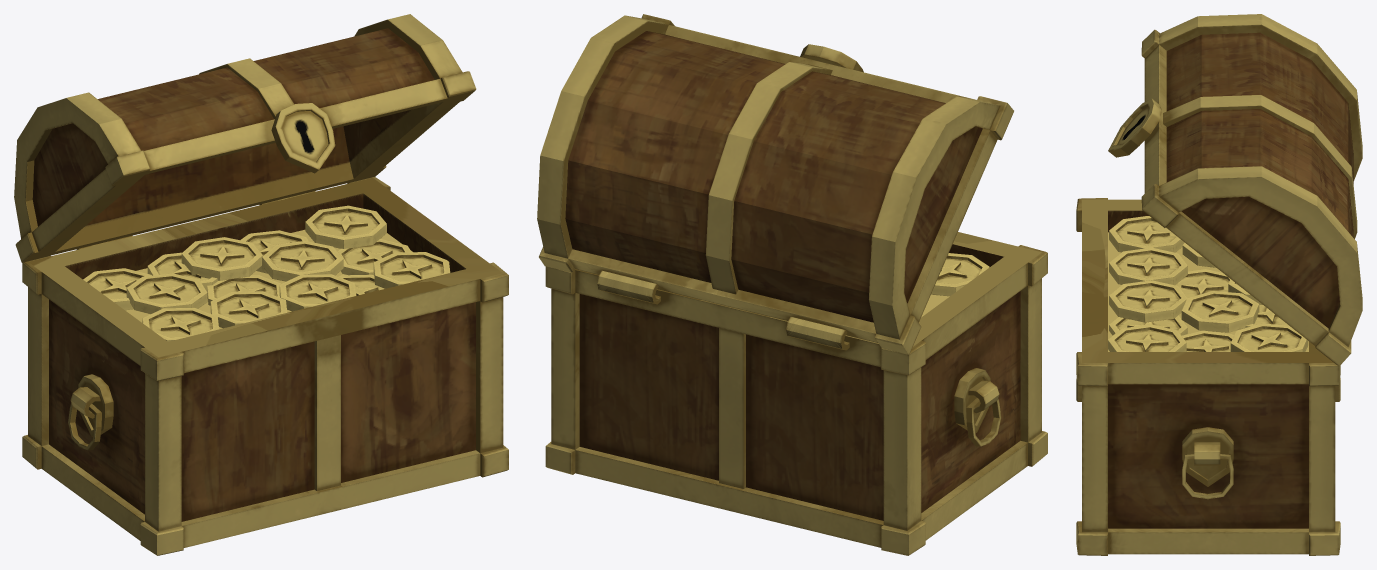
Rendered from CHEST.fbx.
3 views of the same model, side by side, from view 1: azimuth 30°, elevation 25°; view 2: azimuth 150°, elevation 25°; view 3: azimuth 270°, elevation 25° (orthographic). The views are drawn at different scales.
Parts seen in each view (by area): view 1: Chest, Lid, Chest_Coins; view 2: Lid, Chest, Chest_Coins; view 3: Lid, Chest, Chest_Coins.
Boxes of the visible parts, x1=… form: Chest: x1=22, y1=177, x2=508, y2=555; Lid: x1=14, y1=14, x2=476, y2=262; Chest_Coins: x1=83, y1=205, x2=450, y2=341; Lid: x1=537, y1=14, x2=1013, y2=354; Chest: x1=545, y1=232, x2=1047, y2=555; Chest_Coins: x1=921, y1=253, x2=989, y2=317; Lid: x1=1108, y1=14, x2=1362, y2=366; Chest: x1=1076, y1=198, x2=1340, y2=555; Chest_Coins: x1=1108, y1=216, x2=1308, y2=351.
Bounding box in the file's own units: 163 × 160 × 111.
